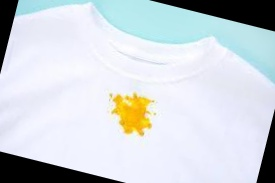mustard: (99, 88, 159, 139)
